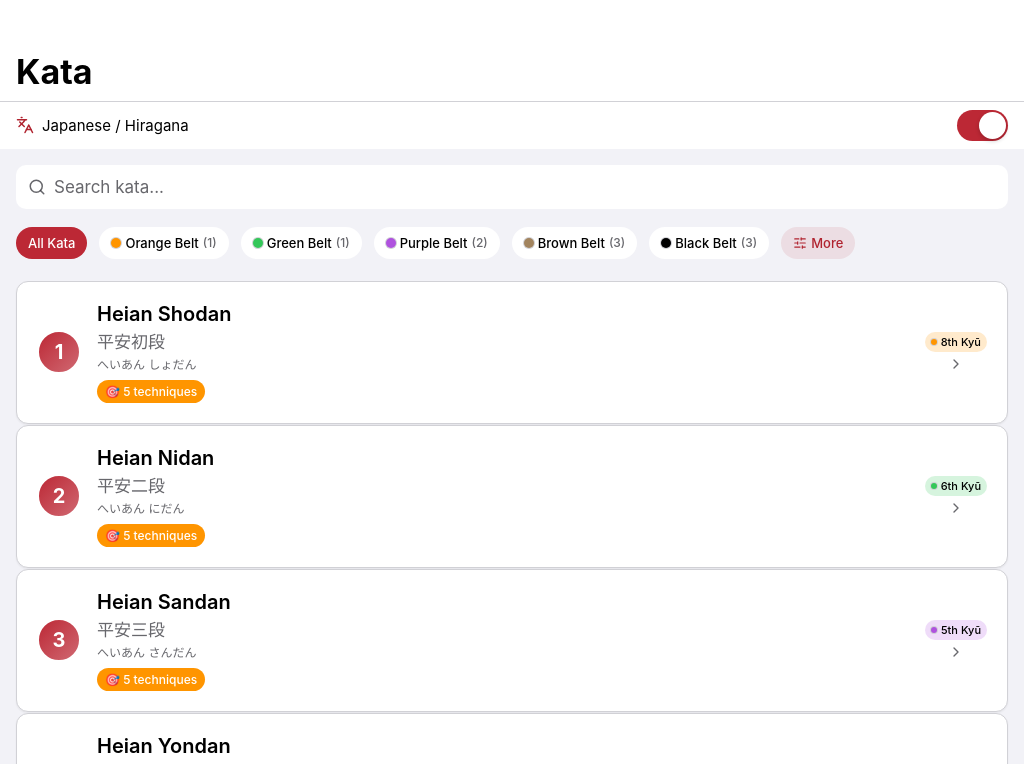
Scenario: KataListScreen › hides Japanese names when the toggle is off
The image size is (1024, 764).
Check: the text "平安初段" is shown, box [97, 332, 165, 352]
Click the switch named "Japanese / Hiragana". click: (982, 125)
box: [957, 110, 1008, 141]
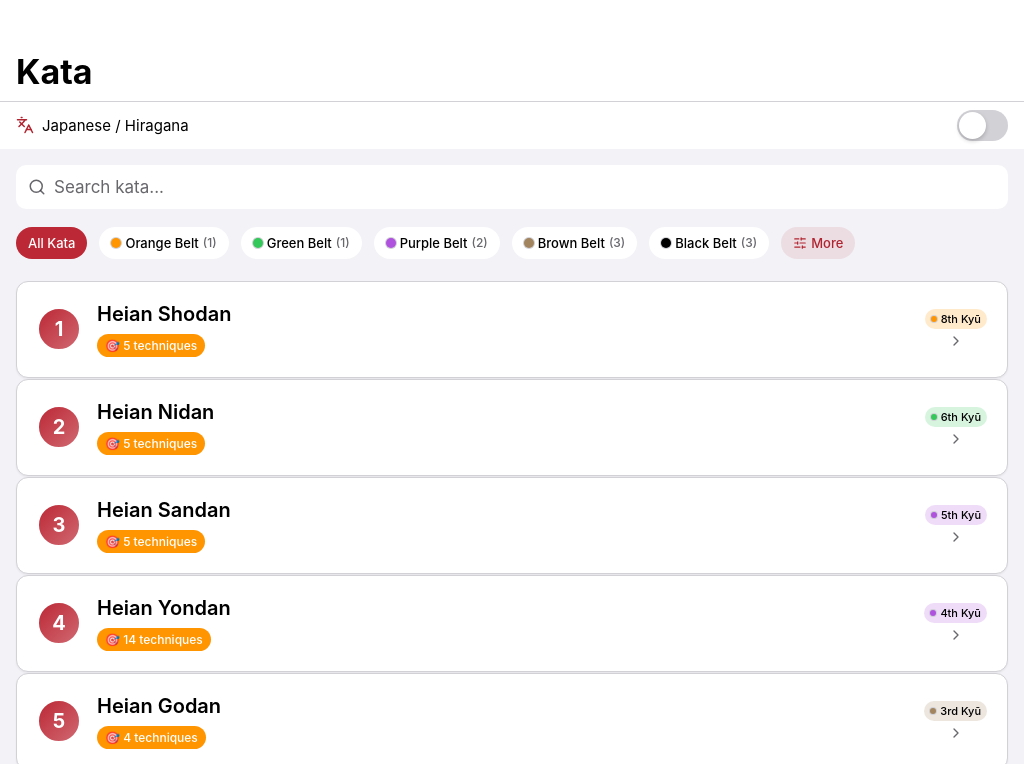
Check: the text "平安初段" is gone
